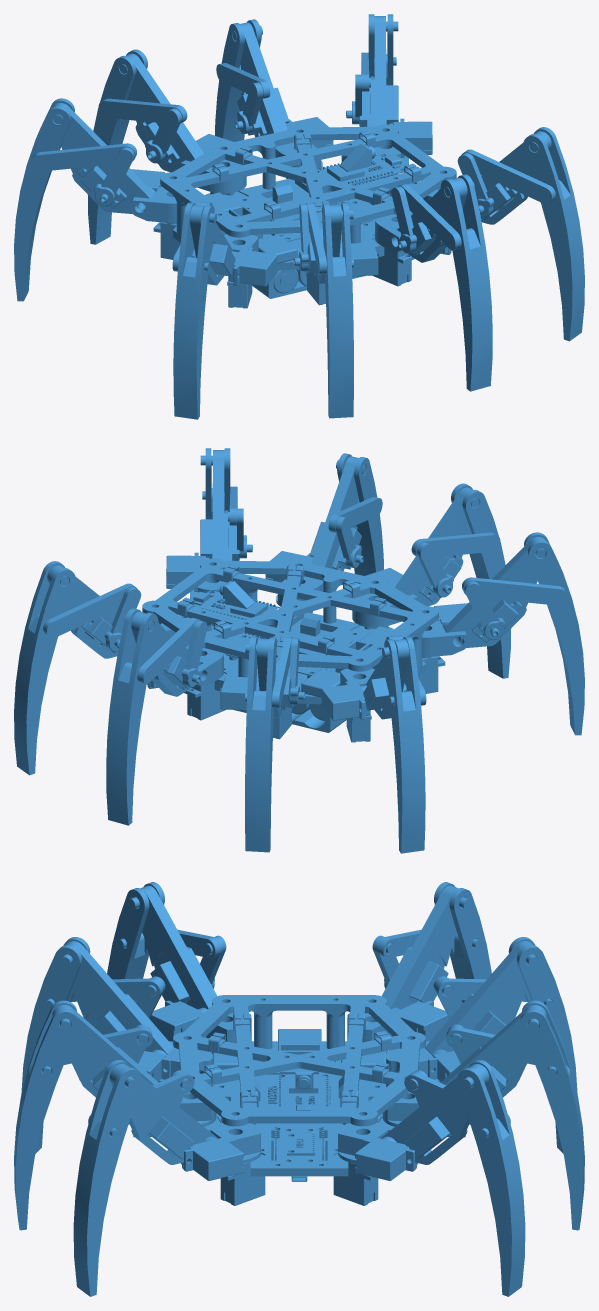
The model's file is spider-robot.glb.
The picture shows the model from 3 angles, top to bottom: view 1: azimuth 30°, elevation 25°; view 2: azimuth 150°, elevation 25°; view 3: azimuth 270°, elevation 25°; orthographic projection. The views are drawn at different scales.
Parts seen in each view (by area): view 1: Mirrorleg- third segment (×4), reinforcement? bearing frame, leg- third segment (×4), leg- second segment (×4), MG90S SERVOR (×8), MirrorMG90S SERVOR (×6), Lower Beam (×3), Mirrorleg- second segment (×4), MirrorLower Beam (×3), leg- beam1 (×3), leg- first segment (×2), body (+6 smaller); view 2: leg- third segment (×4), reinforcement? bearing frame, Mirrorleg- third segment (×4), Mirrorleg- second segment (×4), MG90S SERVOR (×9), MirrorMG90S SERVOR (×5), MirrorLower Beam (×3), leg- second segment (×4), Lower Beam (×3), Mirrorleg- beam1 (×3), Mirrorleg- first segment (×2), body (+7 smaller); view 3: leg- third segment (×4), Mirrorleg- third segment (×4), reinforcement? bearing frame, Mirrorleg- second segment (×4), leg- second segment (×4), MG90S SERVOR (×7), MirrorMG90S SERVOR (×5), body, Lower Beam (×4), MirrorLower Beam (×4), Mirrorleg- first segment (×2), leg- first segment (×2) (+6 smaller).
Part boxes in pixels (box(x1,y1,x2,y2)): Mirrorleg- third segment (×4): box(173, 127, 584, 419); reinforcement? bearing frame: box(160, 124, 456, 243); leg- third segment (×4): box(14, 14, 393, 301); leg- second segment (×4): box(52, 16, 386, 213); MG90S SERVOR (×8): box(77, 85, 432, 308); MirrorMG90S SERVOR (×6): box(192, 183, 517, 286); Lower Beam (×3): box(31, 63, 270, 171); Mirrorleg- second segment (×4): box(189, 131, 551, 285); MirrorLower Beam (×3): box(306, 149, 555, 274); leg- beam1 (×3): box(101, 82, 263, 195); leg- first segment (×2): box(129, 159, 246, 222); body: box(173, 178, 419, 272); leg- third segment (×4): box(14, 561, 425, 853); reinforcement? bearing frame: box(142, 558, 438, 677); Mirrorleg- third segment (×4): box(205, 448, 584, 735); Mirrorleg- second segment (×4): box(212, 450, 546, 647); MG90S SERVOR (×9): box(81, 617, 445, 742); MirrorMG90S SERVOR (×5): box(166, 519, 521, 642); MirrorLower Beam (×3): box(328, 497, 567, 605); leg- second segment (×4): box(47, 565, 409, 719); Lower Beam (×3): box(43, 583, 292, 708); Mirrorleg- beam1 (×3): box(335, 516, 497, 629); Mirrorleg- first segment (×2): box(352, 593, 469, 656); body: box(179, 612, 425, 706); leg- third segment (×4): box(434, 882, 584, 1296); Mirrorleg- third segment (×4): box(14, 882, 164, 1296); reinforcement? bearing frame: box(173, 995, 425, 1126); Mirrorleg- second segment (×4): box(52, 885, 217, 1164); leg- second segment (×4): box(381, 885, 546, 1164); MG90S SERVOR (×7): box(220, 961, 460, 1205); MirrorMG90S SERVOR (×5): box(138, 961, 243, 1180); body: box(216, 1041, 382, 1176); Lower Beam (×4): box(377, 929, 556, 1138); MirrorLower Beam (×4): box(42, 929, 221, 1138); Mirrorleg- first segment (×2): box(181, 1092, 260, 1163); leg- first segment (×2): box(338, 1092, 417, 1163).
Bounding box in the file's own units: 278 × 132 × 315.
